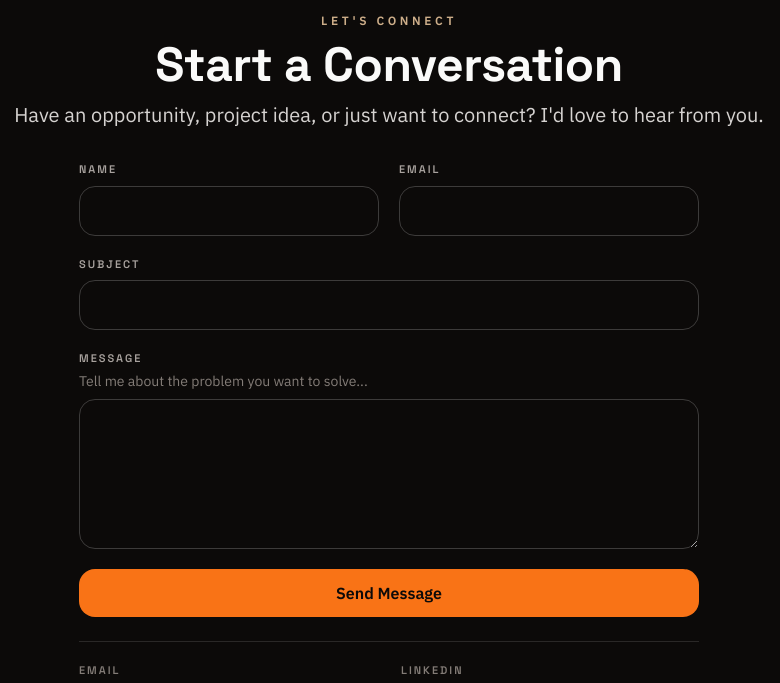
it: ConnectSection › posts the form to Web3Forms and confirms success
Type "Ada" into the field labelled "Name" at (229, 210), box [79,186,379,236]
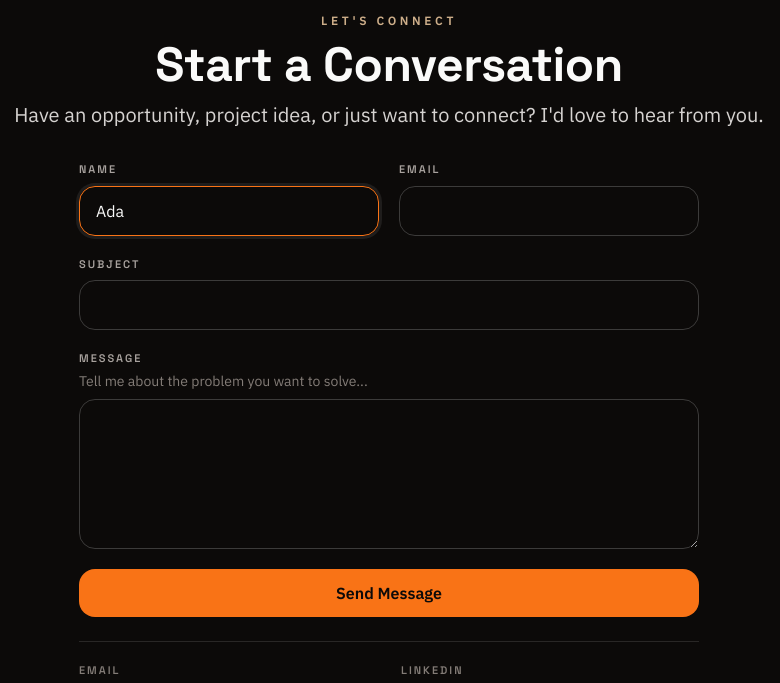
Type "ada@example.com" into the field labelled "Email" at (549, 210), box [399,186,699,236]
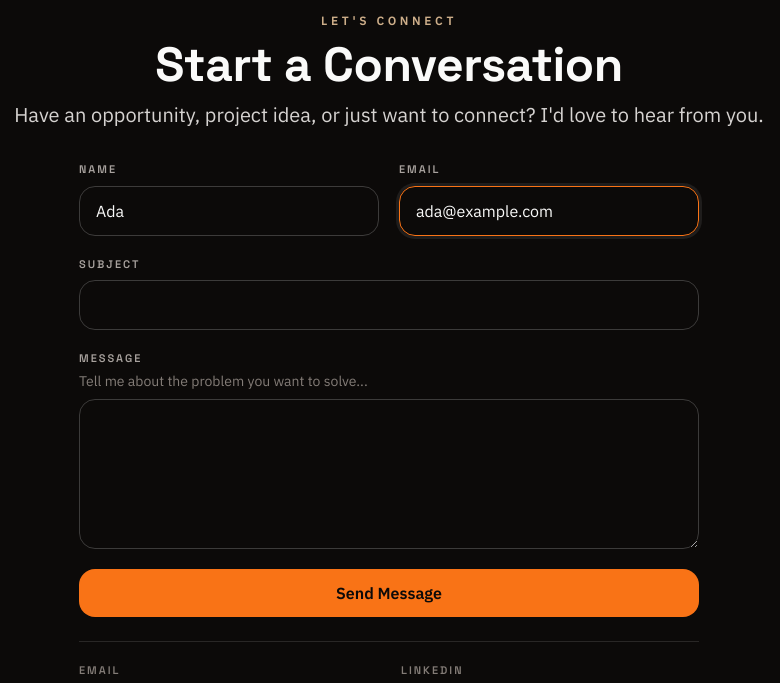
Type "Contract role" into the field labelled "Subject" at (389, 305), box [79,280,699,330]
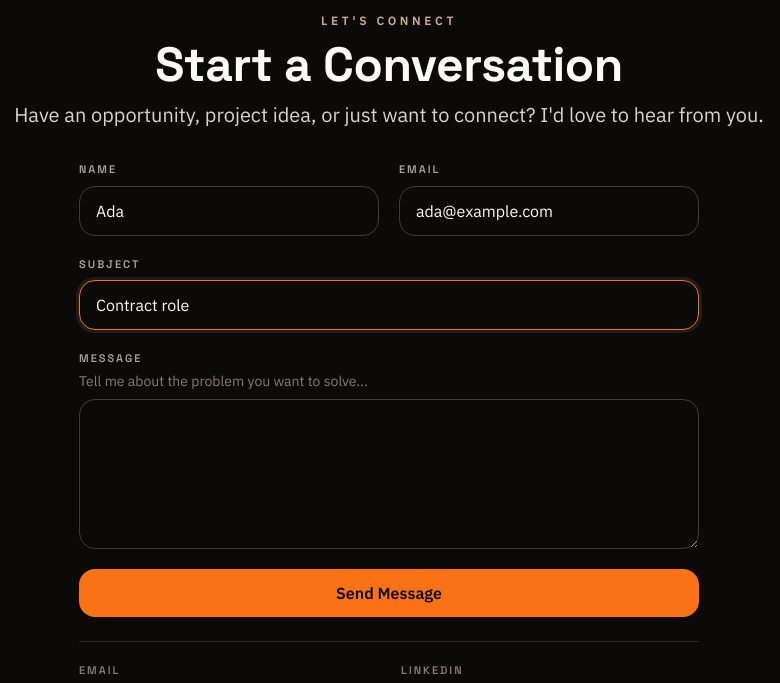
Type "Hi there" into the text box labelled "Message" at (389, 474), box [79,398,699,548]
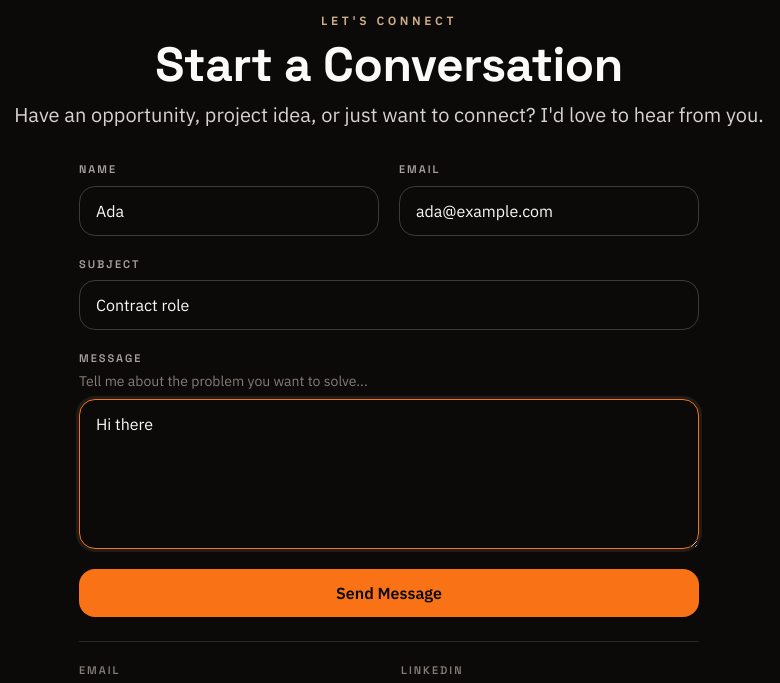
Click the button "Send Message" at (389, 592), box [79,568,699,616]
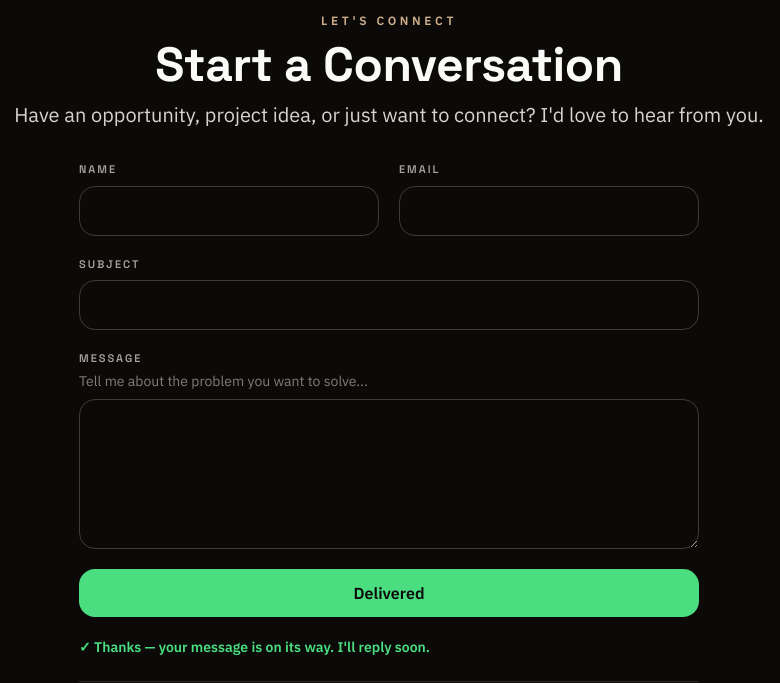
Result: the text "✓ Thanks — your message is on its way. I'll reply soon." is shown at [79,638,430,656]
